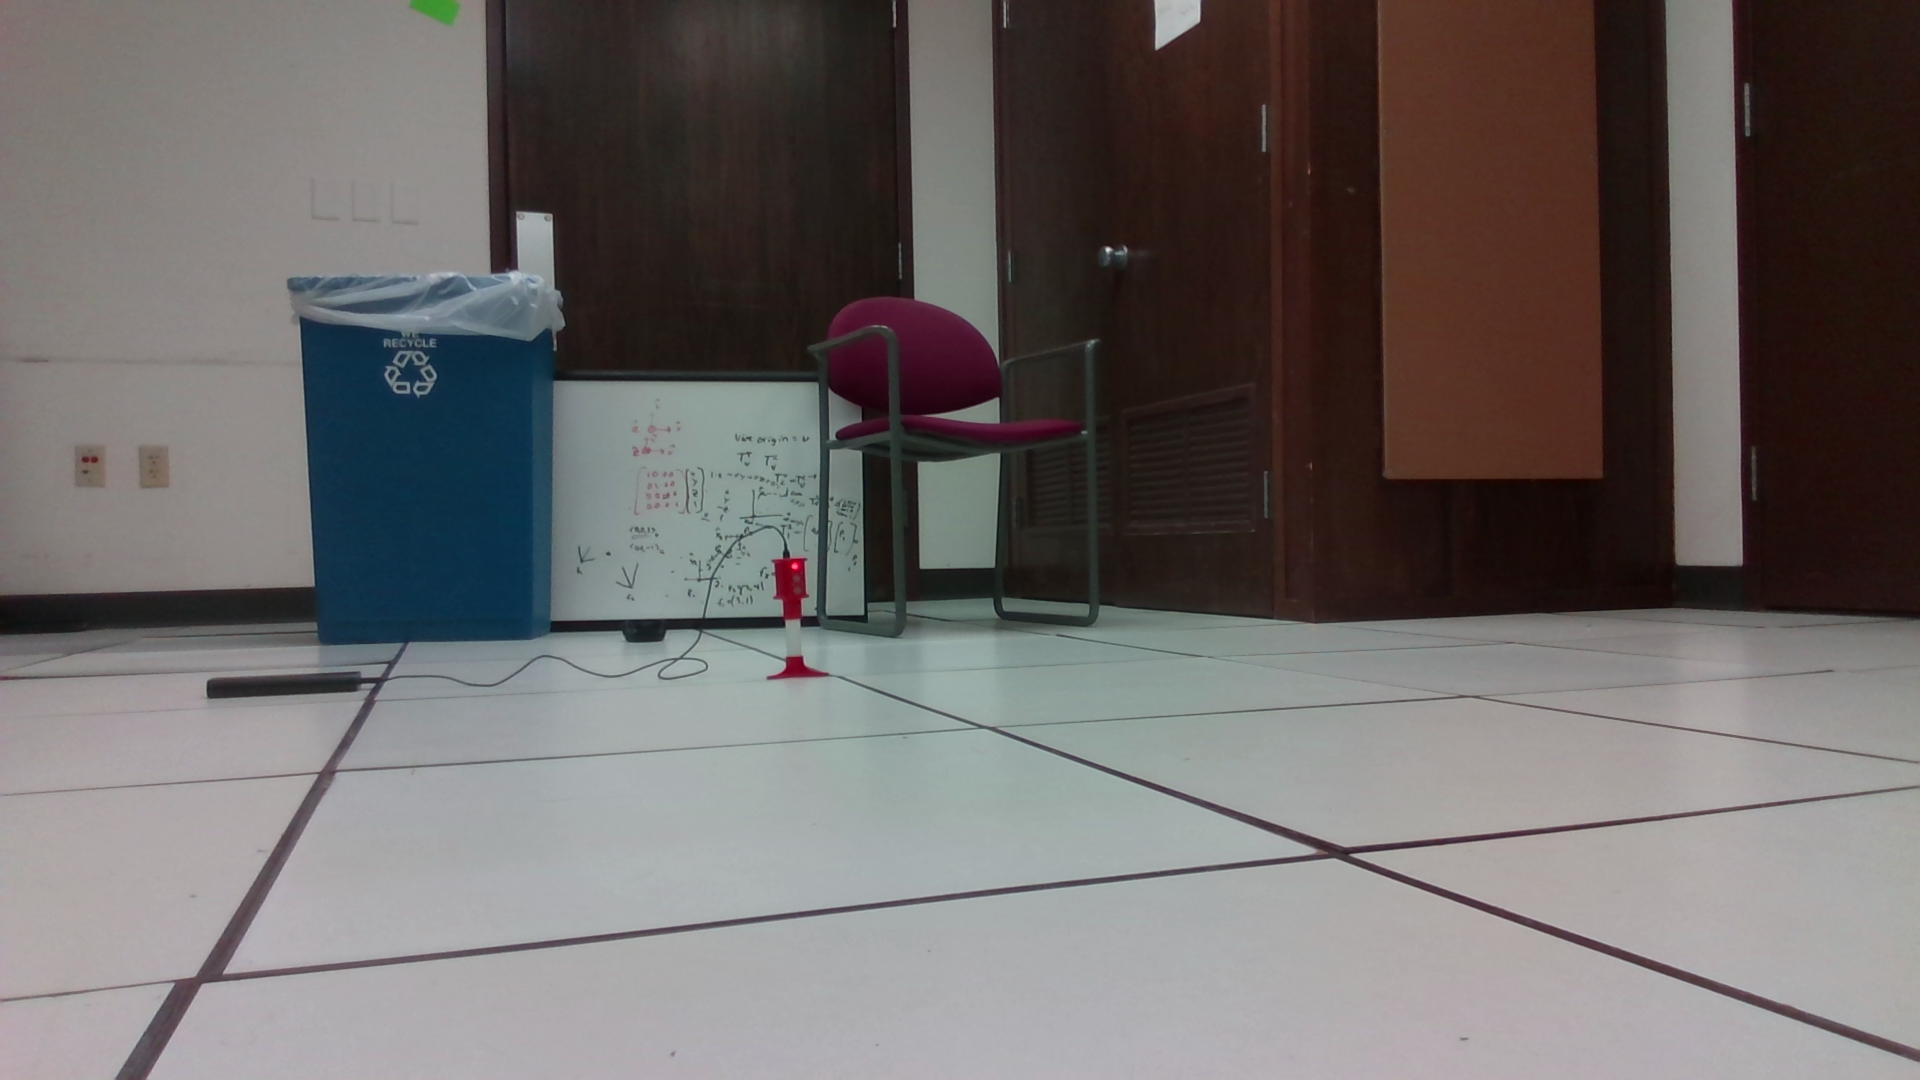stoplight: (771, 555, 808, 621)
